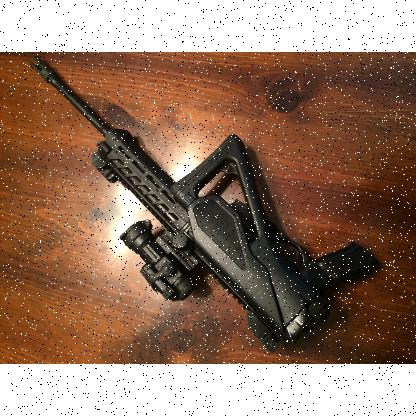gun: (27, 53, 380, 352), (32, 70, 356, 358)
